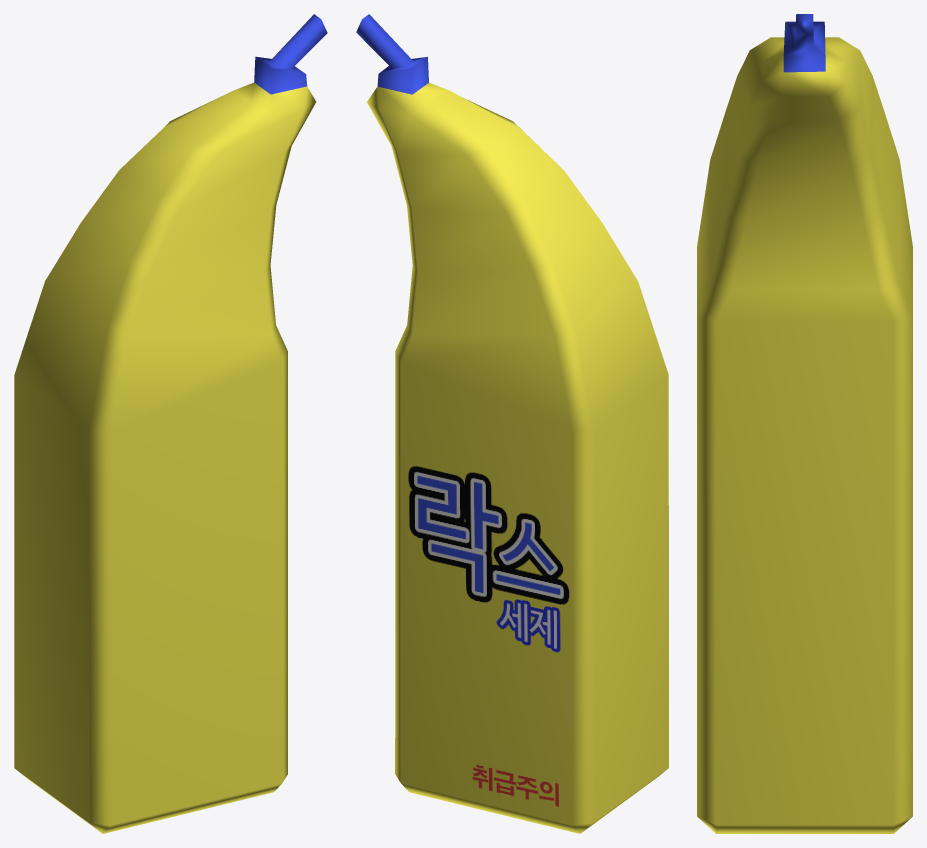
Rendered from Eden_bleach1.fbx.
The picture shows the model from 3 angles, left to right: view 1: azimuth 30°, elevation 25°; view 2: azimuth 150°, elevation 25°; view 3: azimuth 270°, elevation 25°; orthographic projection. The views are drawn at different scales.
Visible parts, largest first — view 1: bleach1; view 2: bleach1; view 3: bleach1.
Part boxes in pixels (x1,y1,x2,y2): bleach1: [14, 14, 327, 833]; bleach1: [356, 14, 668, 833]; bleach1: [697, 14, 912, 833].
Bounding box in the file's own units: 0.00209 × 0.00536 × 0.00121.
Materials: 1 (1 with a texture image).
